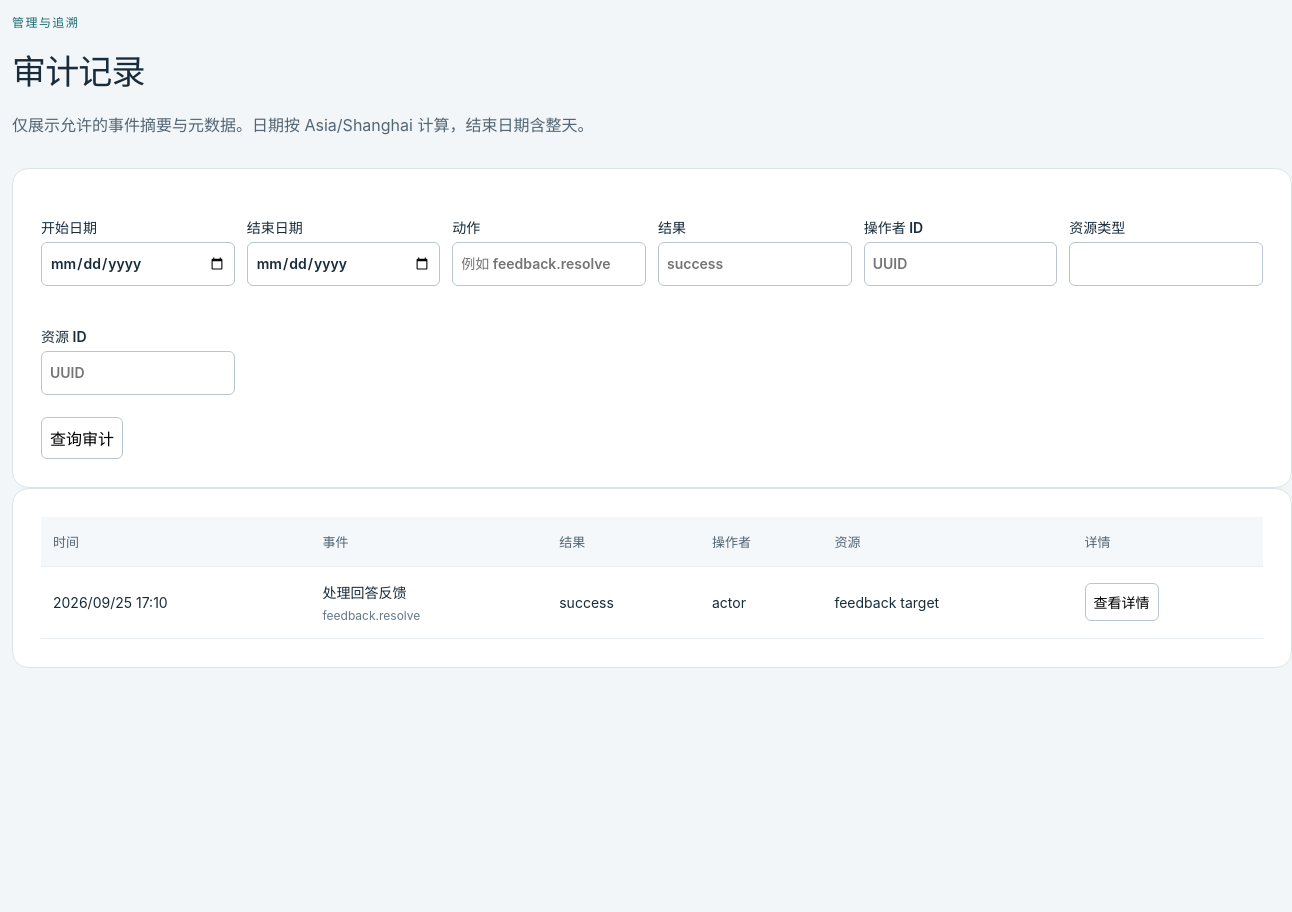
Test: clears old privileged rows after access is denied but keeps a retry path
Click the button with aria-label "查询审计" at (82, 438), box [41,417,123,459]
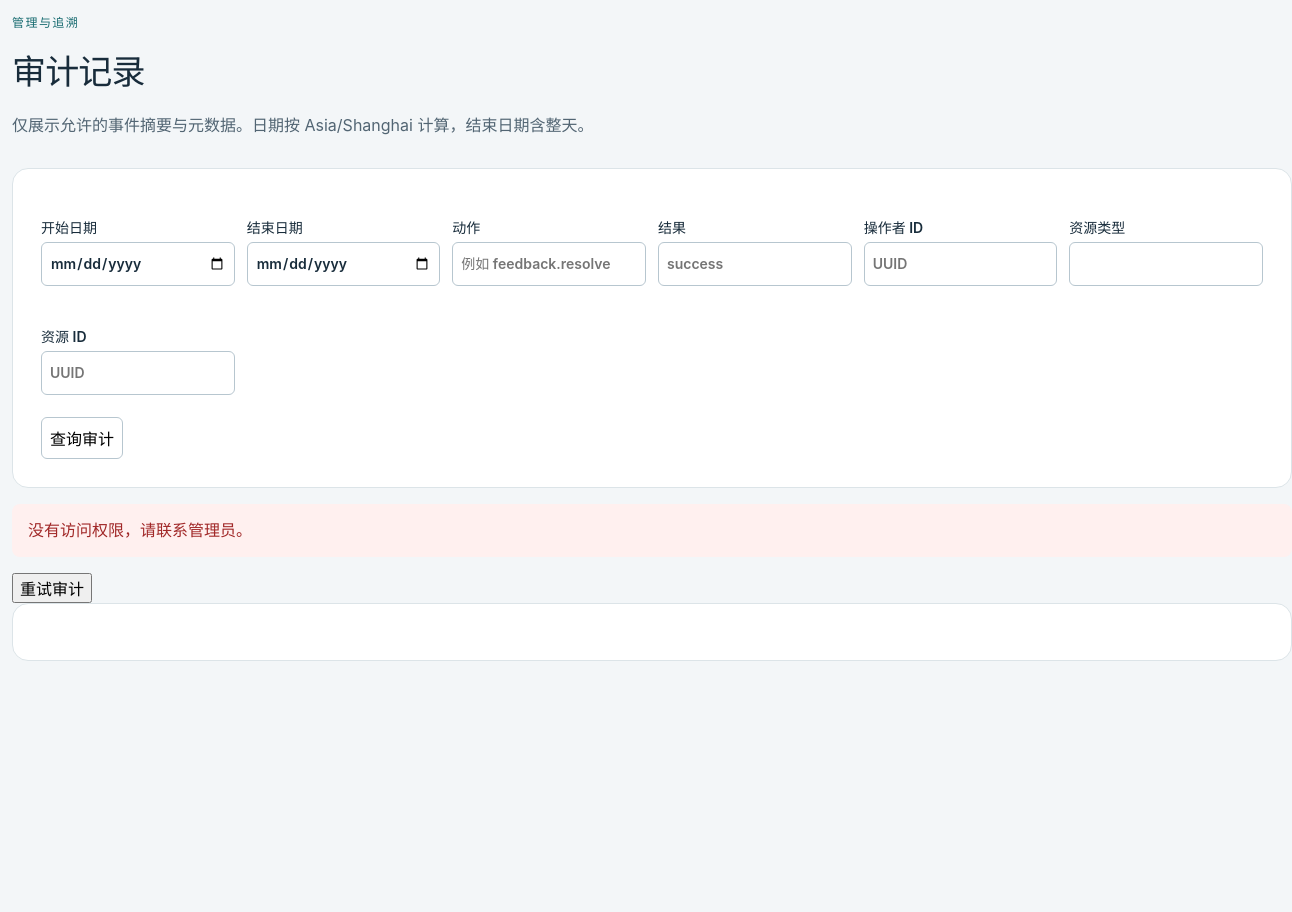
Result: the text "处理回答反馈" is gone
Result: the message "没有访问权限，请联系管理员。" is shown at [12,504,1291,557]
Click the button with aria-label "重试审计" at (52, 588), box [12,573,92,603]
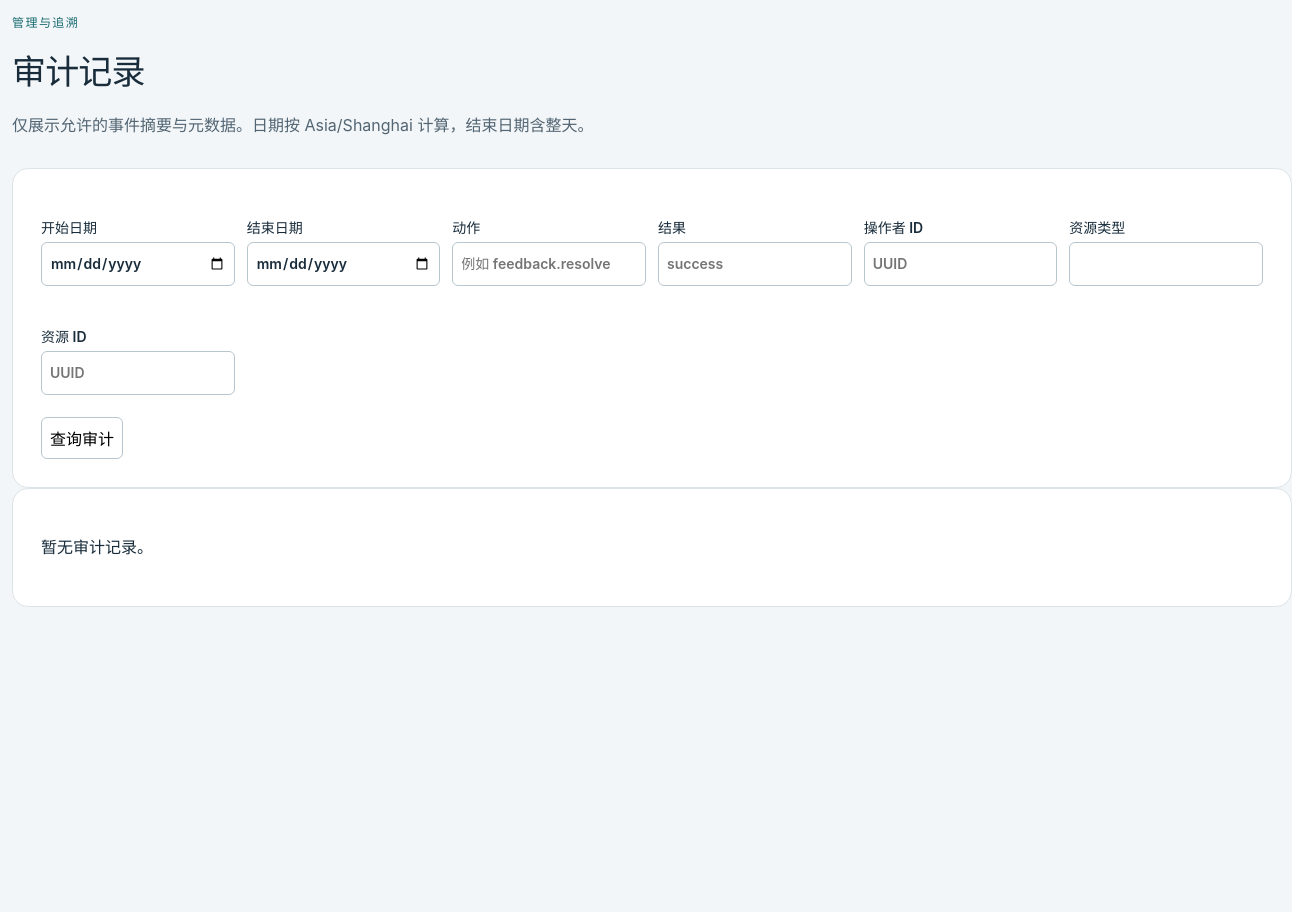
Result: the text "暂无审计记录" is shown at [41,537,153,557]
